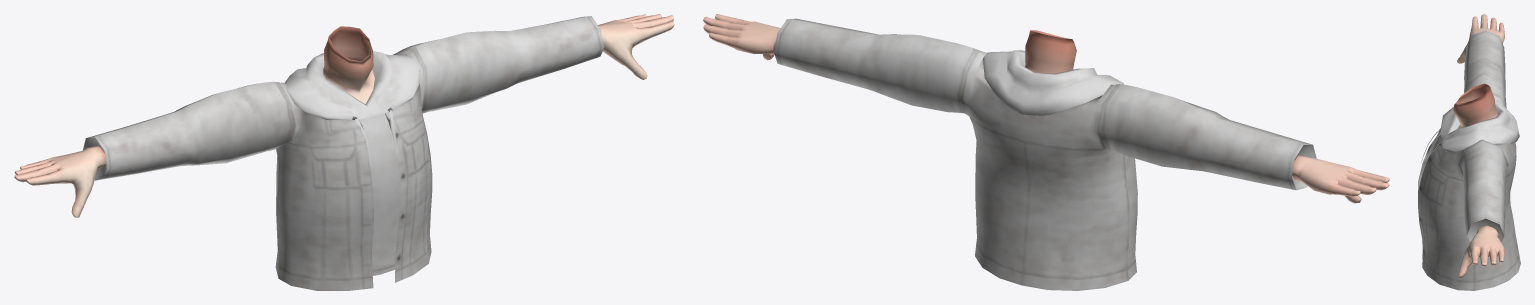
File: tr0770_00_upb02.gltf
3 views of the same model, side by side, from view 1: azimuth 30°, elevation 25°; view 2: azimuth 150°, elevation 25°; view 3: azimuth 270°, elevation 25° (orthographic). The views are drawn at different scales.
Visible parts, largest first — view 1: upb02_upperbody_mesh_shape:upperbody02, upb02_upperskin_mesh_shape:upperbody02_skin; view 2: upb02_upperbody_mesh_shape:upperbody02, upb02_upperskin_mesh_shape:upperbody02_skin; view 3: upb02_upperbody_mesh_shape:upperbody02, upb02_upperskin_mesh_shape:upperbody02_skin.
Boxes of the visible parts, x1,y1,x2,y2 form: upb02_upperbody_mesh_shape:upperbody02: (82, 16, 604, 290); upb02_upperskin_mesh_shape:upperbody02_skin: (14, 14, 674, 217); upb02_upperbody_mesh_shape:upperbody02: (774, 18, 1316, 290); upb02_upperskin_mesh_shape:upperbody02_skin: (703, 14, 1389, 203); upb02_upperbody_mesh_shape:upperbody02: (1418, 30, 1520, 290); upb02_upperskin_mesh_shape:upperbody02_skin: (1453, 14, 1504, 278).
Size of what is drawn, in the model's own units: 1.63 by 0.5362 by 0.2832.
2 materials, 2 textured.
